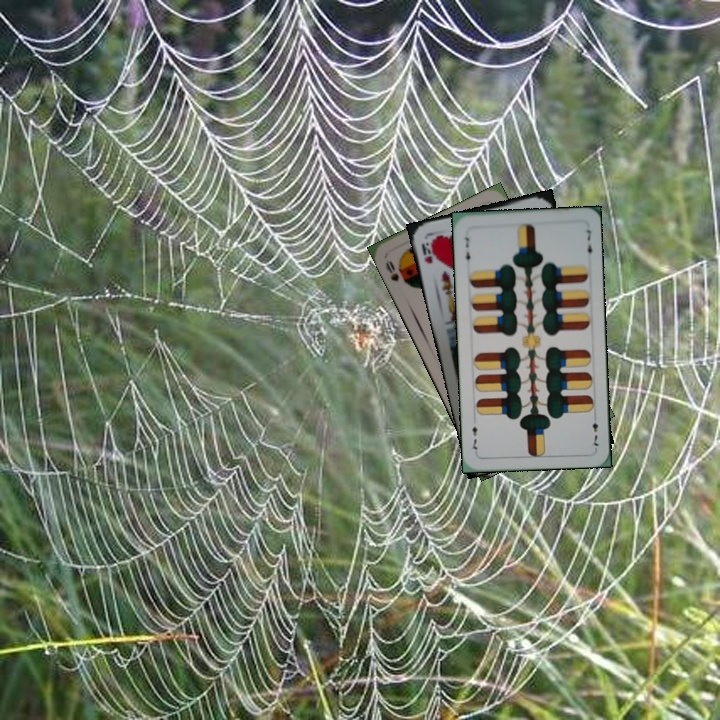E7: (588, 410, 601, 451), (461, 233, 473, 267)
HK: (417, 234, 439, 266)
SO: (381, 256, 401, 284)
